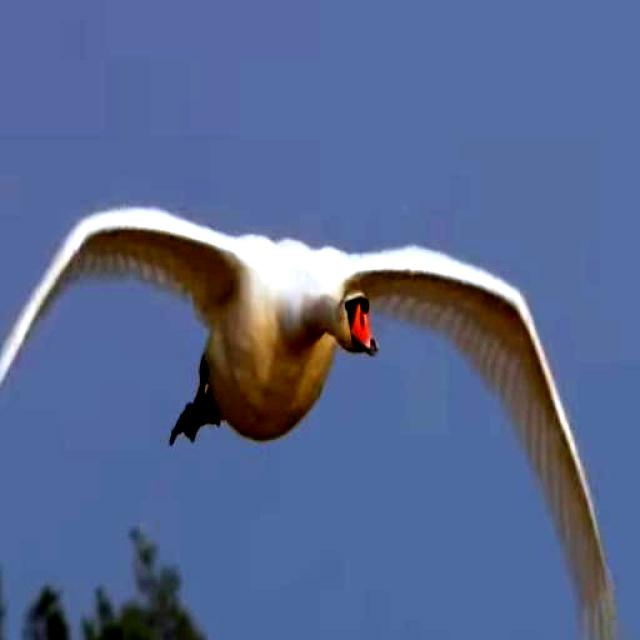airplane: (0, 191, 628, 640)
